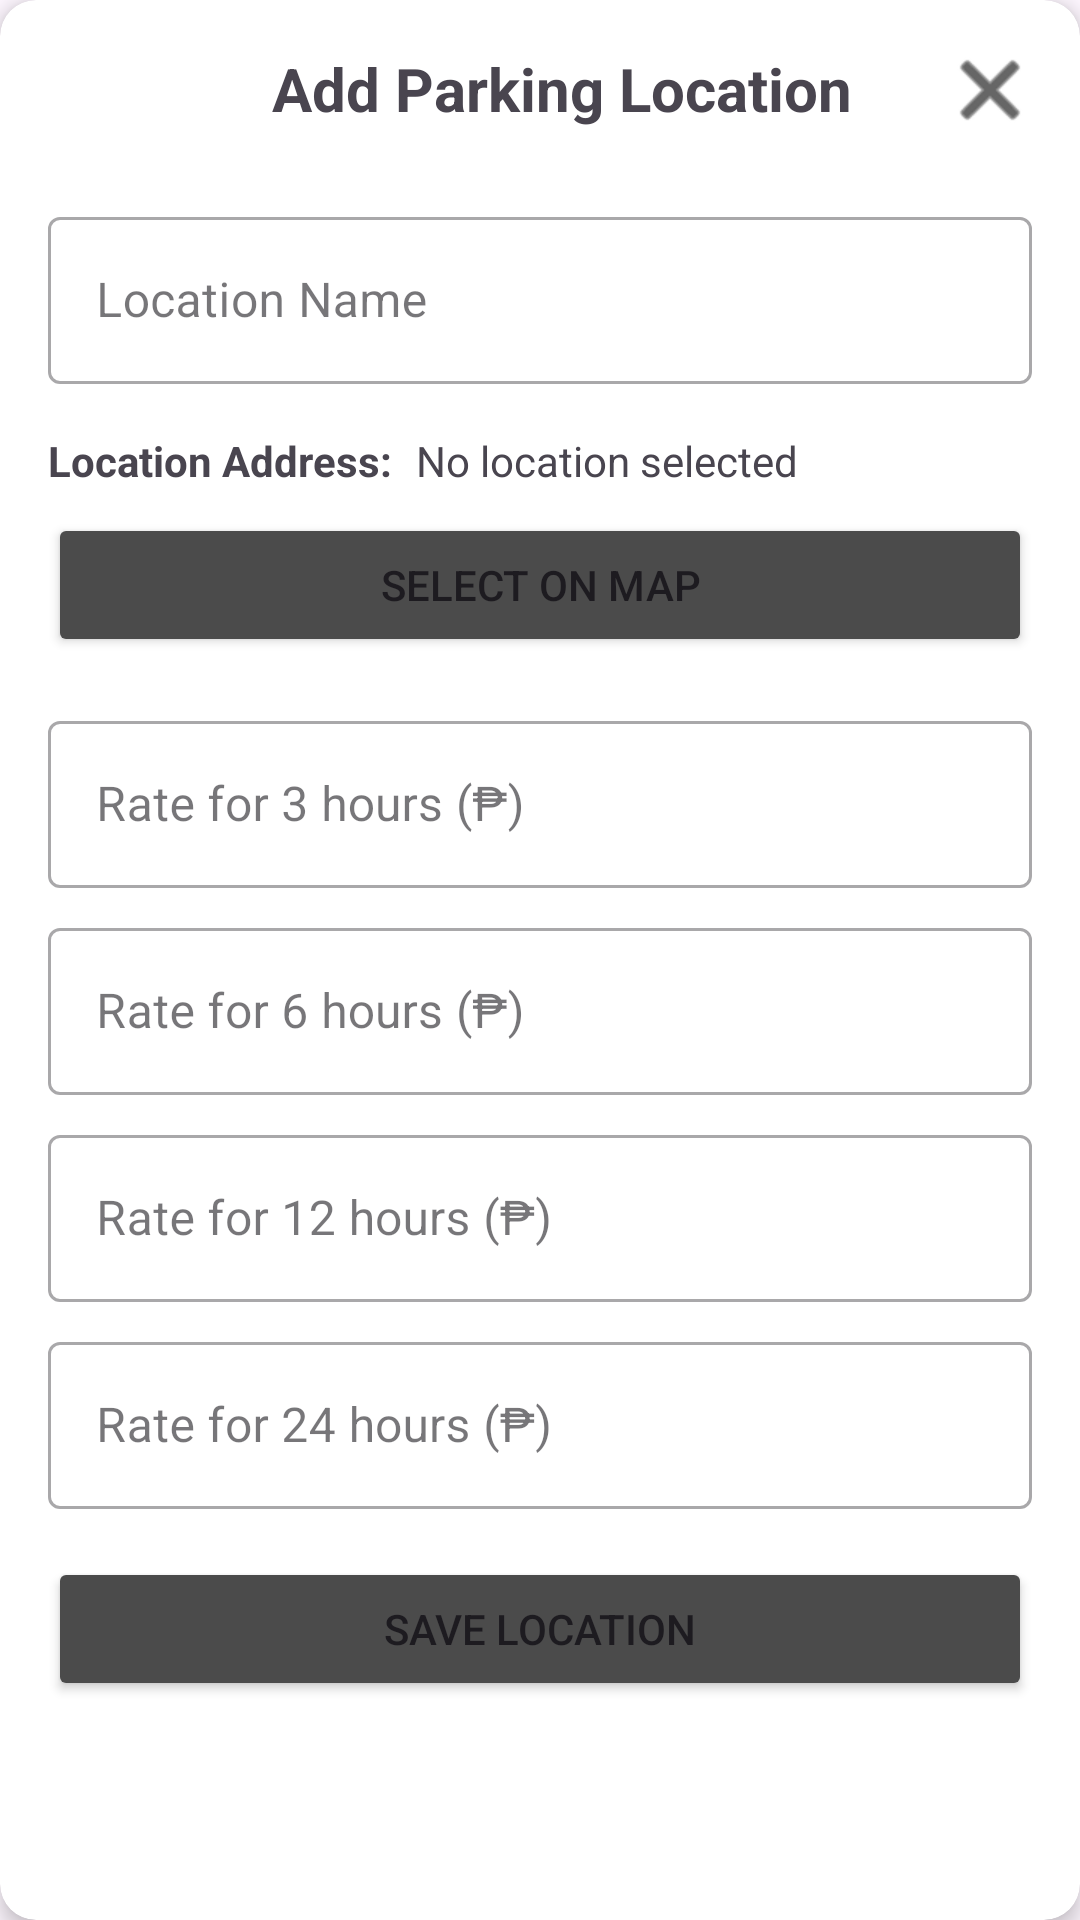

Where to tap for icons on this 1080 x 1920 app screen, as point (x, y):
Close dialog: point (990, 90)
